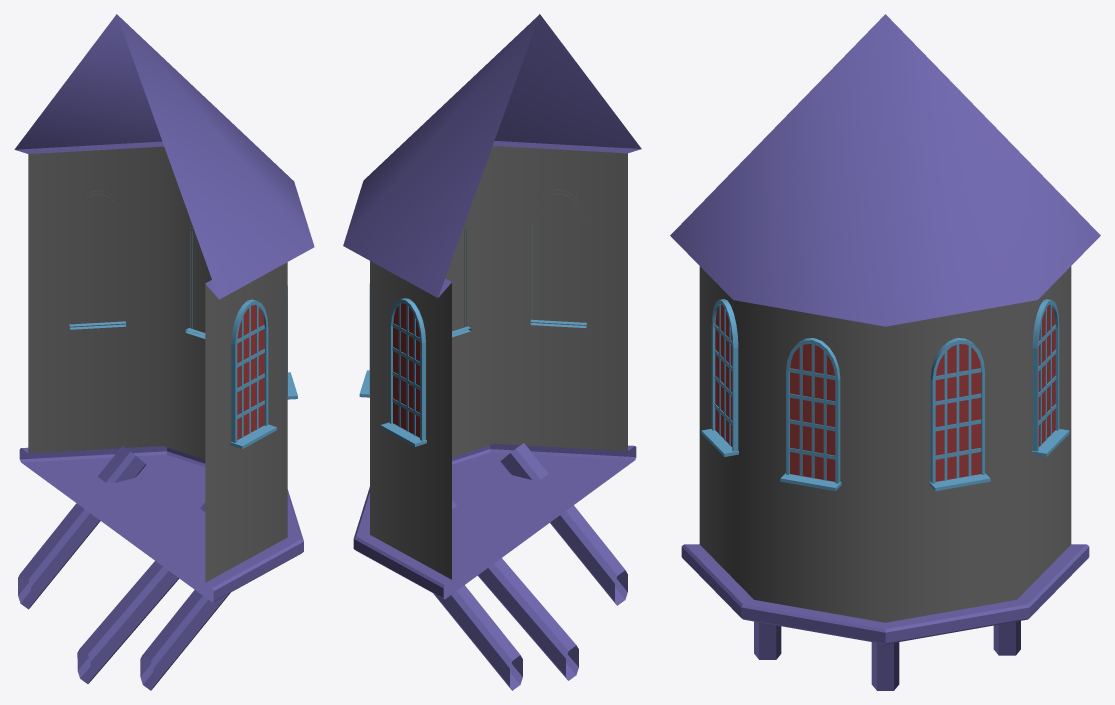
The model's file is Prop_WallExtDecoration.fbx.
3 views of the same model, side by side, from view 1: azimuth 30°, elevation 25°; view 2: azimuth 150°, elevation 25°; view 3: azimuth 270°, elevation 25° (orthographic). The views are drawn at different scales.
Visible parts, largest first — view 1: pCube4; view 2: pCube4; view 3: pCube4.
Boxes of the visible parts, box(x1,y1,x2,y2) form: pCube4: box(14, 14, 314, 690); pCube4: box(343, 14, 641, 690); pCube4: box(670, 14, 1100, 690).
Bounding box in the file's own units: 349 × 1037 × 584.
